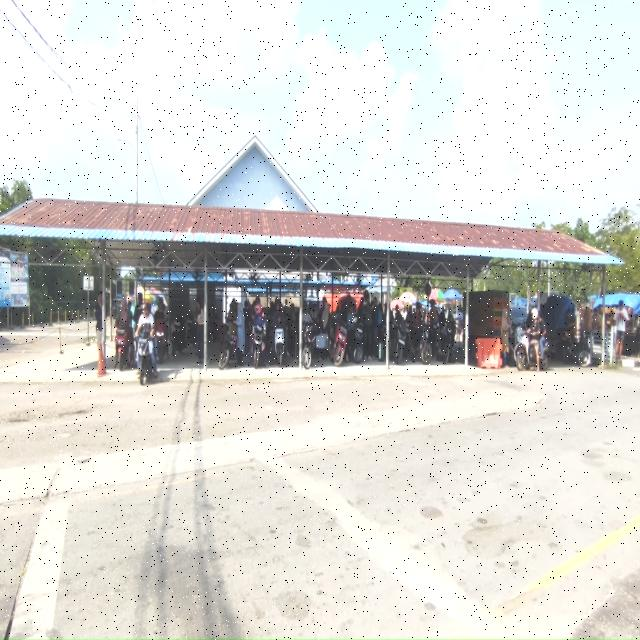Golongan II: (515, 329, 549, 371), (557, 336, 591, 366), (329, 316, 347, 366), (137, 332, 153, 385), (115, 321, 131, 372), (437, 322, 456, 364), (219, 328, 237, 371), (302, 324, 318, 369), (171, 315, 187, 356), (394, 322, 409, 365), (350, 317, 364, 363), (155, 318, 169, 364), (252, 325, 266, 369), (420, 323, 432, 364), (274, 327, 285, 367)
